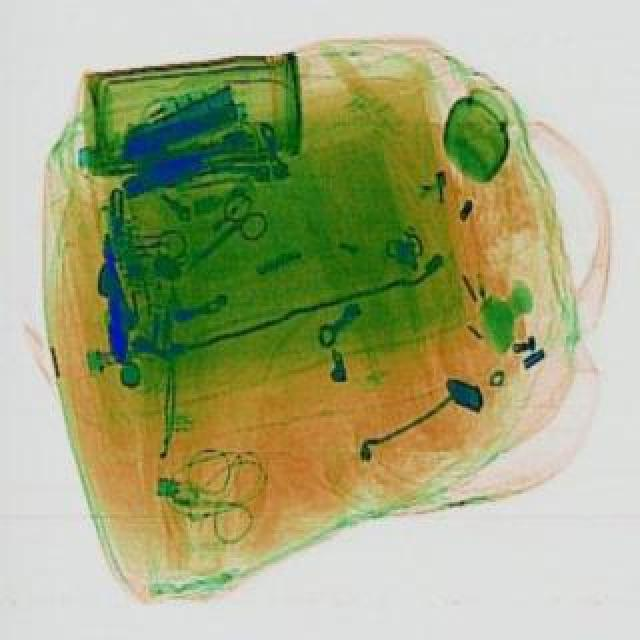pliers: (168, 194, 274, 288)
